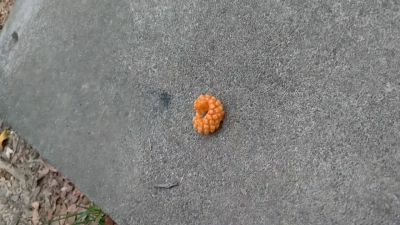eggs: (191, 93, 226, 138)
